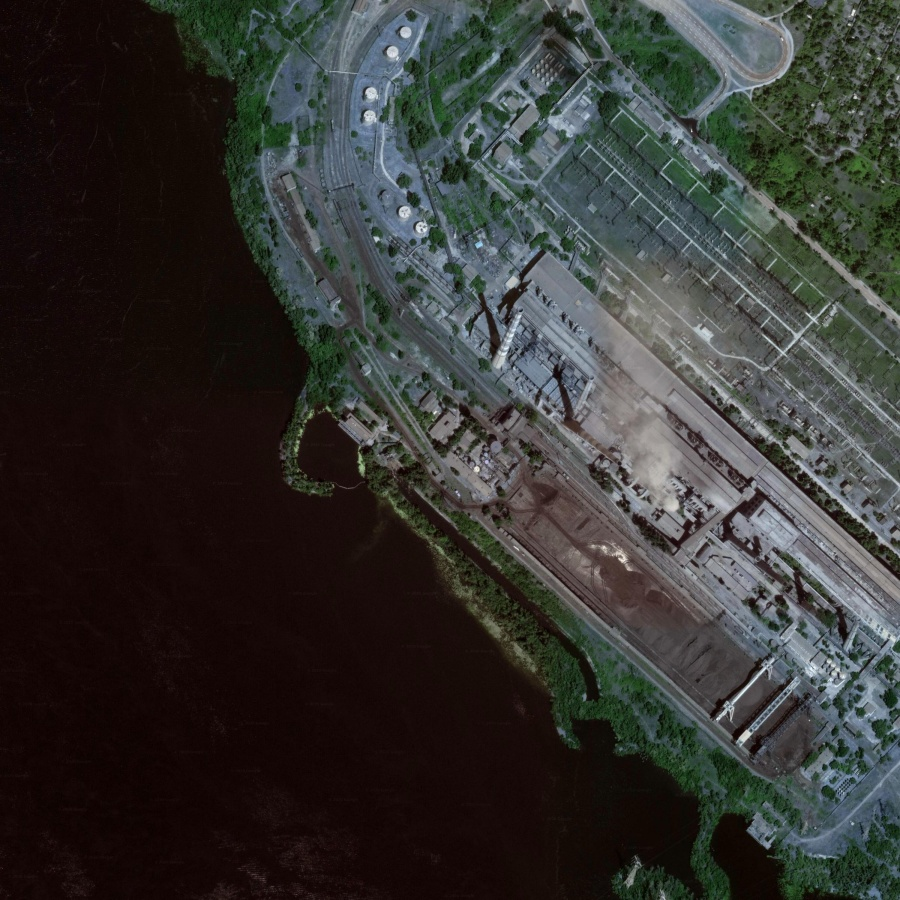PowerPlant: (448, 278, 881, 777)
